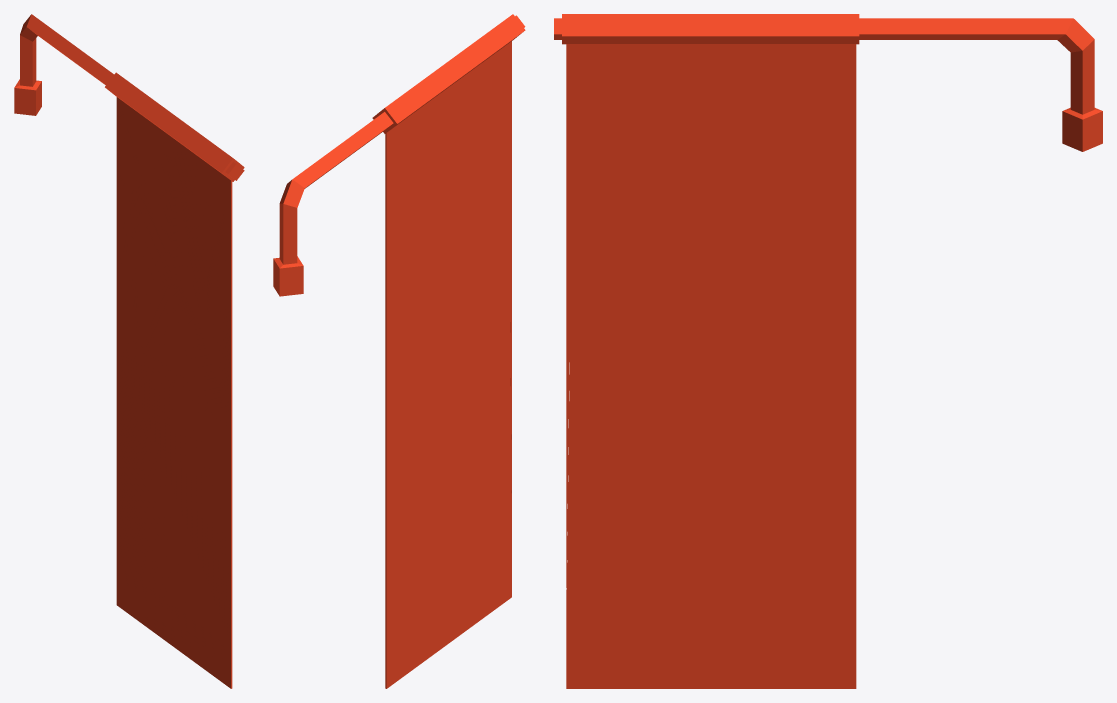
The model's file is SM_Sign_Shelf_C_City.fbx.
3 renders of one model, left to right at view 1: azimuth 30°, elevation 25°; view 2: azimuth 150°, elevation 25°; view 3: azimuth 270°, elevation 25°, orthographic. The views are drawn at different scales.
Visible parts, largest first — view 1: SM_Sign_Shelf_C_City; view 2: SM_Sign_Shelf_C_City; view 3: SM_Sign_Shelf_C_City.
Boxes of the visible parts, x1,y1,x2,y2 form: SM_Sign_Shelf_C_City: [14, 14, 244, 688]; SM_Sign_Shelf_C_City: [273, 14, 525, 688]; SM_Sign_Shelf_C_City: [554, 14, 1102, 688].
Bounding box in the file's own units: 0.0356 × 0.6524 × 0.4812.
